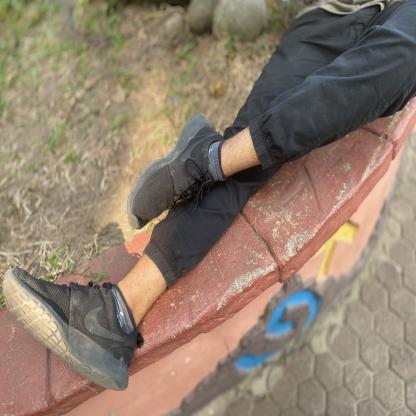leg: (93, 99, 358, 230), (0, 254, 255, 390)
